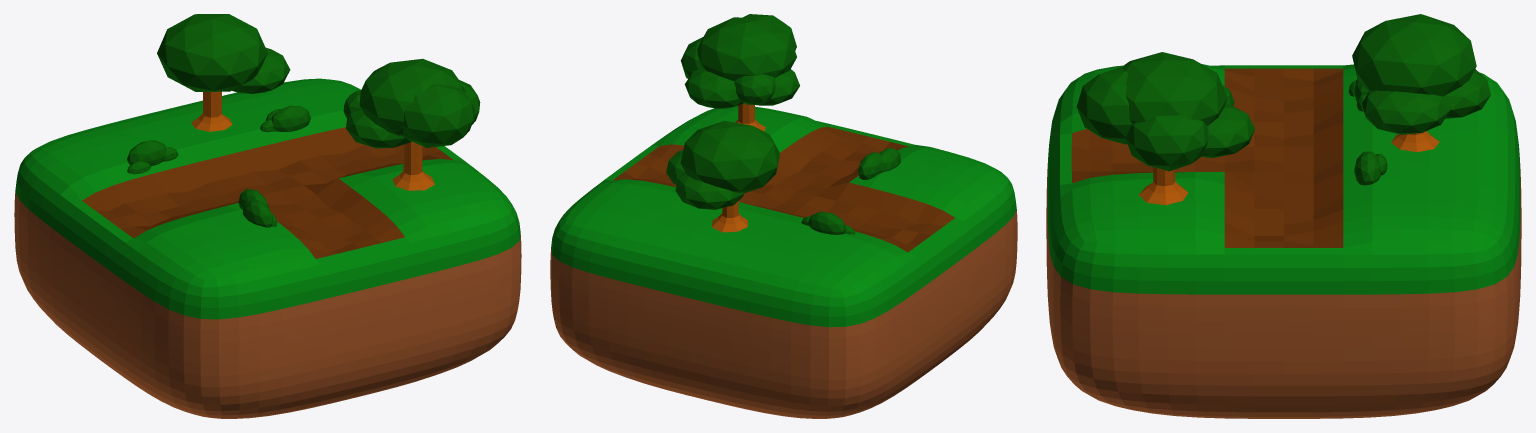
Rendered from platformTripleForet.fbx.
3 renders of one model, left to right at view 1: azimuth 30°, elevation 25°; view 2: azimuth 150°, elevation 25°; view 3: azimuth 270°, elevation 25°, orthographic. The views are drawn at different scales.
Parts seen in each view (by area): view 1: foret triple; view 2: foret triple; view 3: foret triple.
Part boxes in pixels (x1,y1,x2,y2): foret triple: [14, 14, 521, 418]; foret triple: [550, 14, 1017, 418]; foret triple: [1046, 14, 1521, 418].
Bounding box in the file's own units: 200 × 161 × 200.
